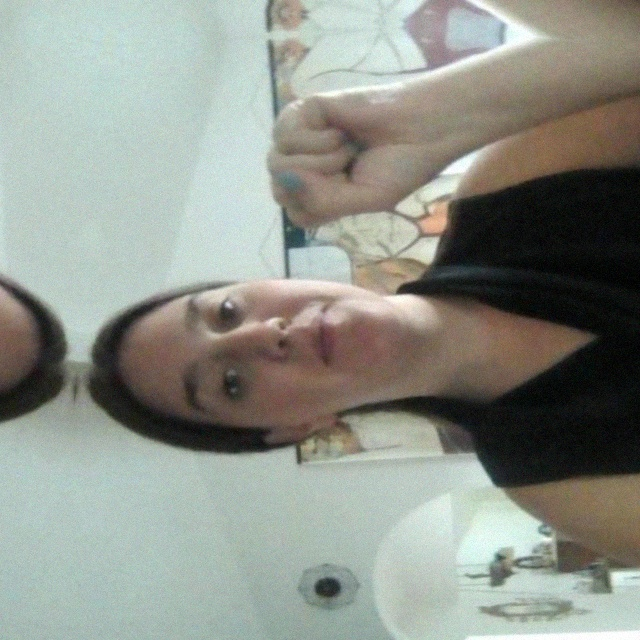Rock: (241, 0, 511, 9)
